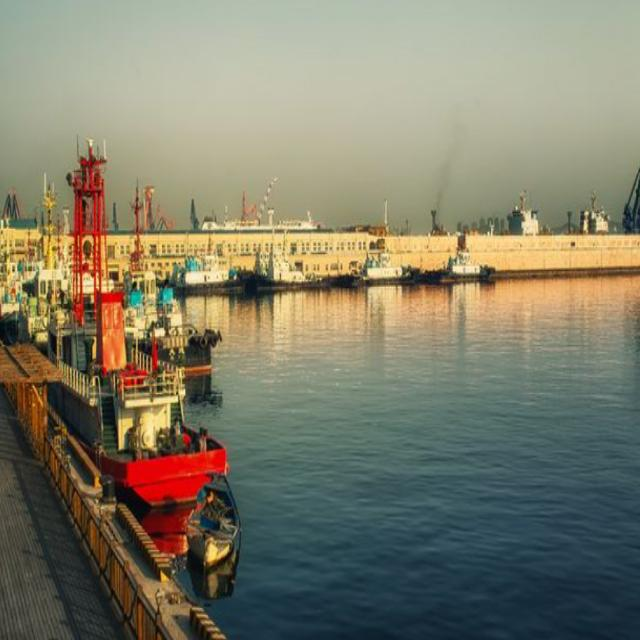houseboat: (41, 164, 225, 550)
